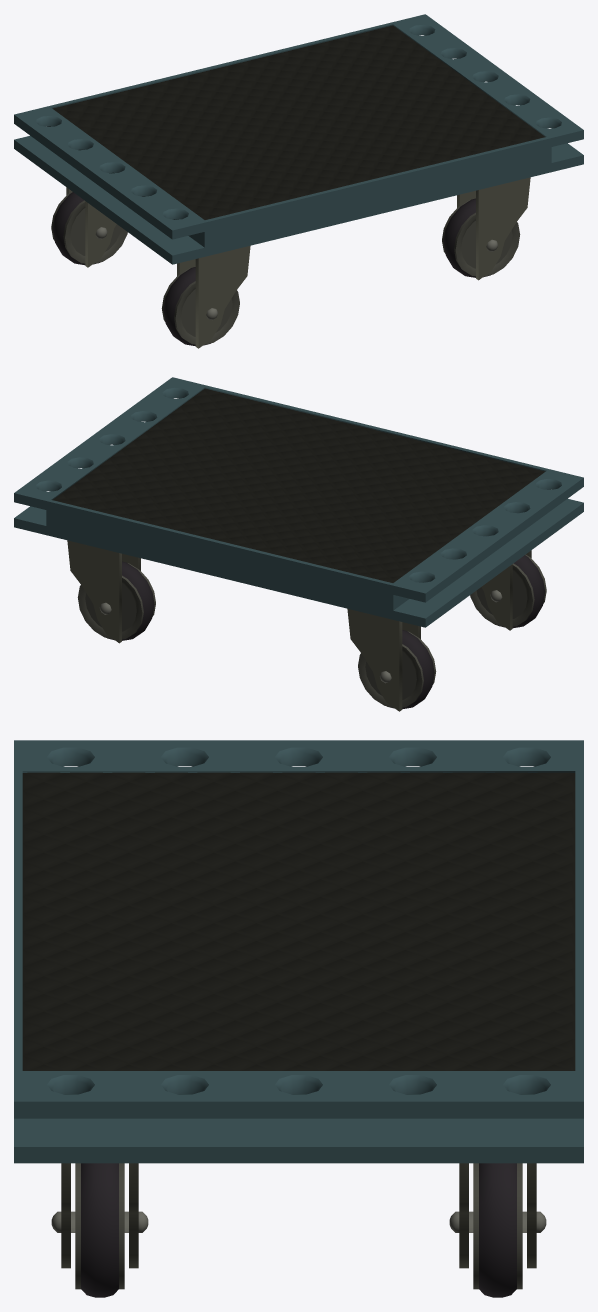
File: EM_138_dolly_cart.glb
The picture shows the model from 3 angles, top to bottom: view 1: azimuth 30°, elevation 25°; view 2: azimuth 150°, elevation 25°; view 3: azimuth 270°, elevation 25°; orthographic projection. The views are drawn at different scales.
Parts seen in each view (by area): view 1: surface, dolly_cart, wheels; view 2: surface, dolly_cart, wheels; view 3: surface, dolly_cart, wheels.
Part boxes in pixels (box(x1,y1,x2,y2)): surface: box(53, 25, 545, 219); dolly_cart: box(14, 14, 583, 264); wheels: box(51, 177, 530, 348); surface: box(52, 388, 544, 582); dolly_cart: box(14, 377, 583, 627); wheels: box(67, 540, 546, 711); surface: box(22, 772, 575, 1070); dolly_cart: box(14, 740, 583, 1163); wheels: box(51, 1163, 546, 1297).
Size of the model in its own units: 2.25 by 0.7499 by 1.5.
